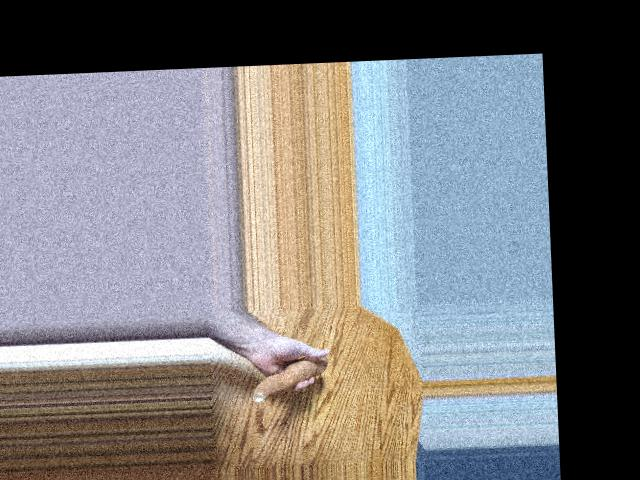sweet_potato: (247, 357, 326, 402)
